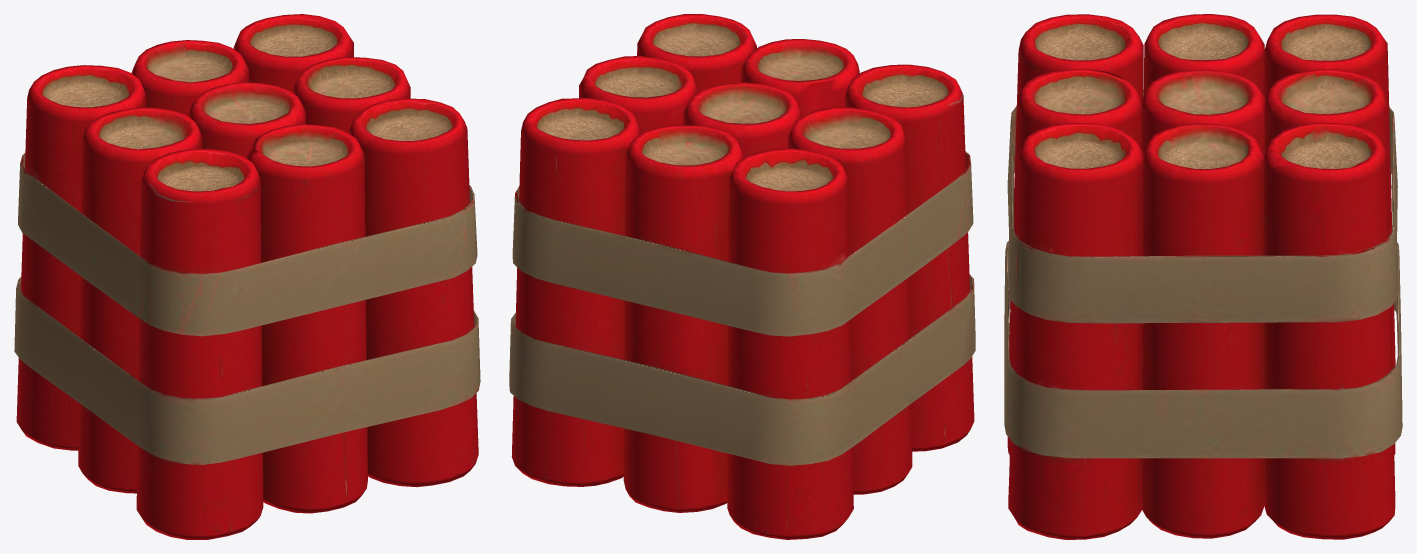
The model's file is tnt-bundle.glb.
The picture shows the model from 3 angles, left to right: view 1: azimuth 30°, elevation 25°; view 2: azimuth 150°, elevation 25°; view 3: azimuth 270°, elevation 25°; orthographic projection. The views are drawn at different scales.
Bounding box in the file's own units: 1 × 1 × 0.9902.
Materials: 1 (1 with a texture image).
